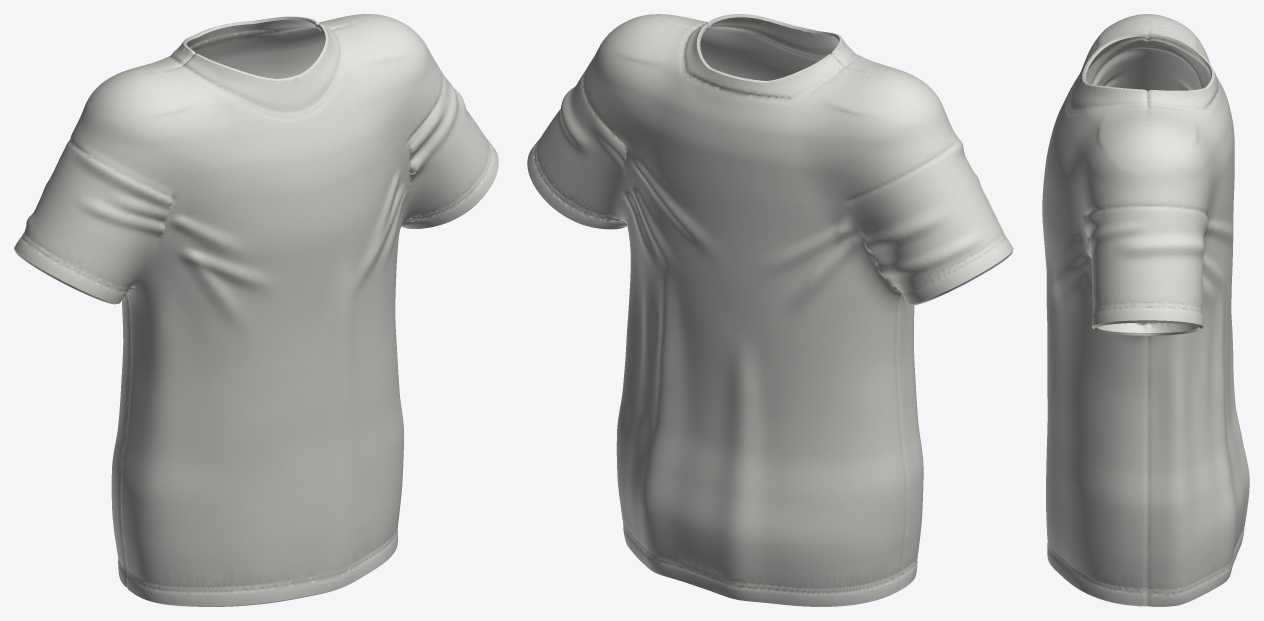
The model's file is 01_camiseta_clasica_pbr.glb.
The picture shows the model from 3 angles, left to right: view 1: azimuth 30°, elevation 25°; view 2: azimuth 150°, elevation 25°; view 3: azimuth 270°, elevation 25°; orthographic projection. The views are drawn at different scales.
Visible parts, largest first — view 1: Camiseta PBR; view 2: Camiseta PBR; view 3: Camiseta PBR.
Part boxes in pixels (x1,y1,x2,y2): Camiseta PBR: (14, 14, 498, 606); Camiseta PBR: (527, 14, 1013, 606); Camiseta PBR: (1042, 14, 1249, 606).
Bounding box in the file's own units: 0.6812 × 0.7279 × 0.2806.
Materials: 1 (1 with a texture image).
